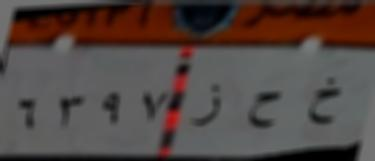3: (56, 90, 88, 136)
6: (11, 90, 44, 138)
7: (140, 88, 168, 125)
7aa: (239, 85, 289, 134)
9: (98, 88, 127, 131)
khaa: (306, 68, 346, 136)
zay: (188, 76, 229, 134)
